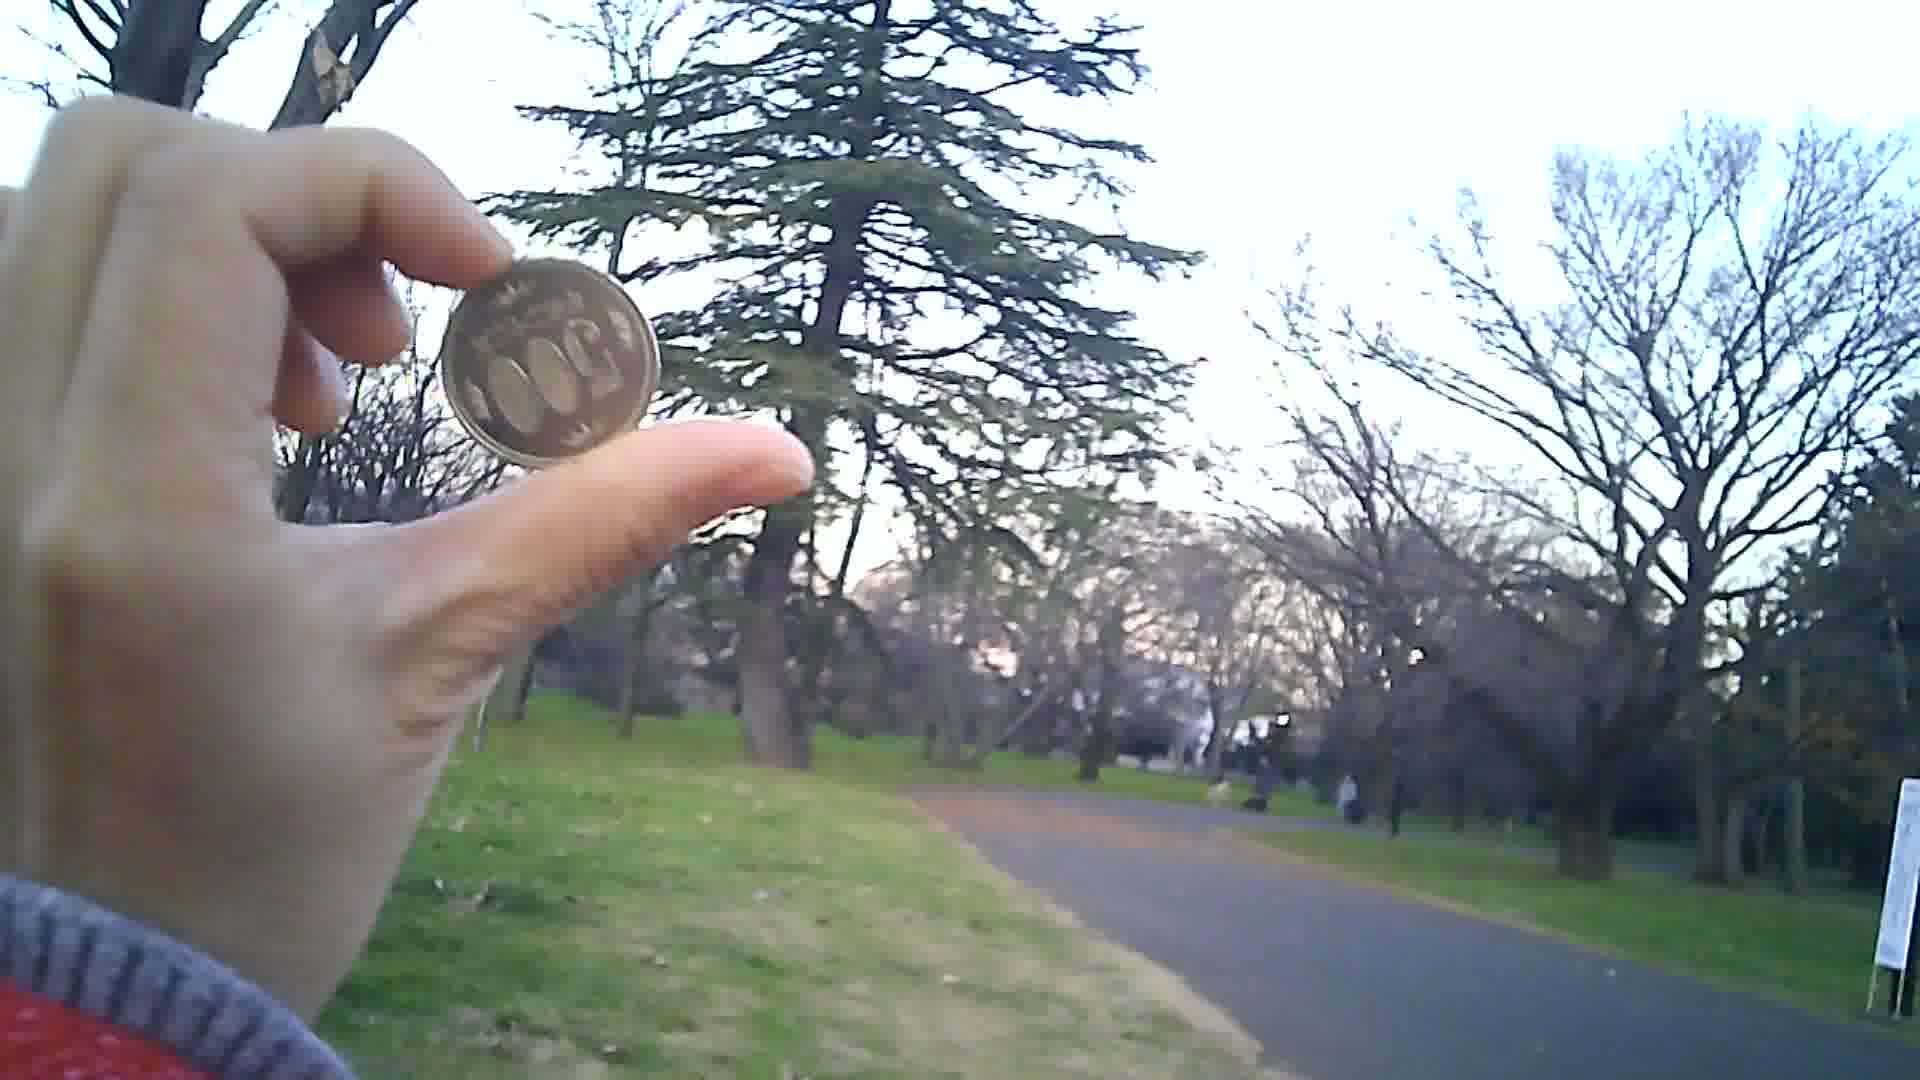500 Yen: (440, 251, 662, 476)
